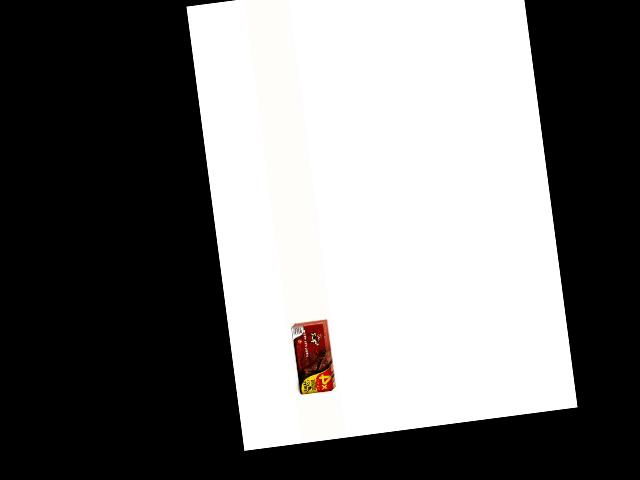chocolate: (289, 320, 336, 396)
